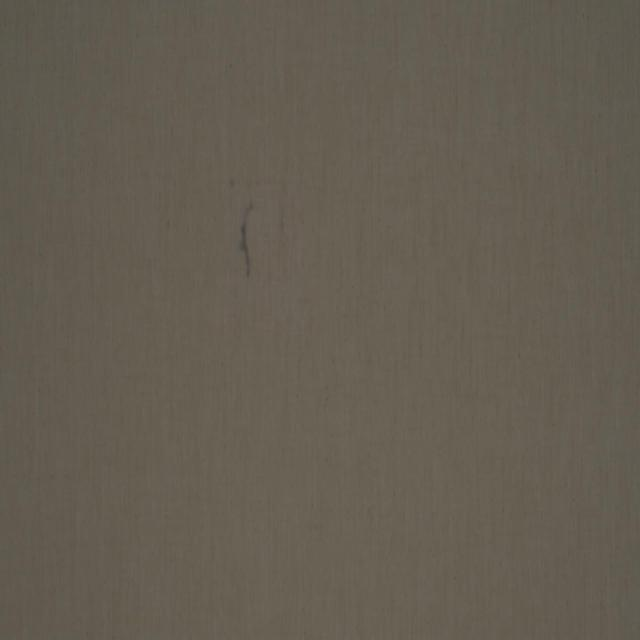dirty: (238, 202, 252, 280), (229, 177, 236, 190)
